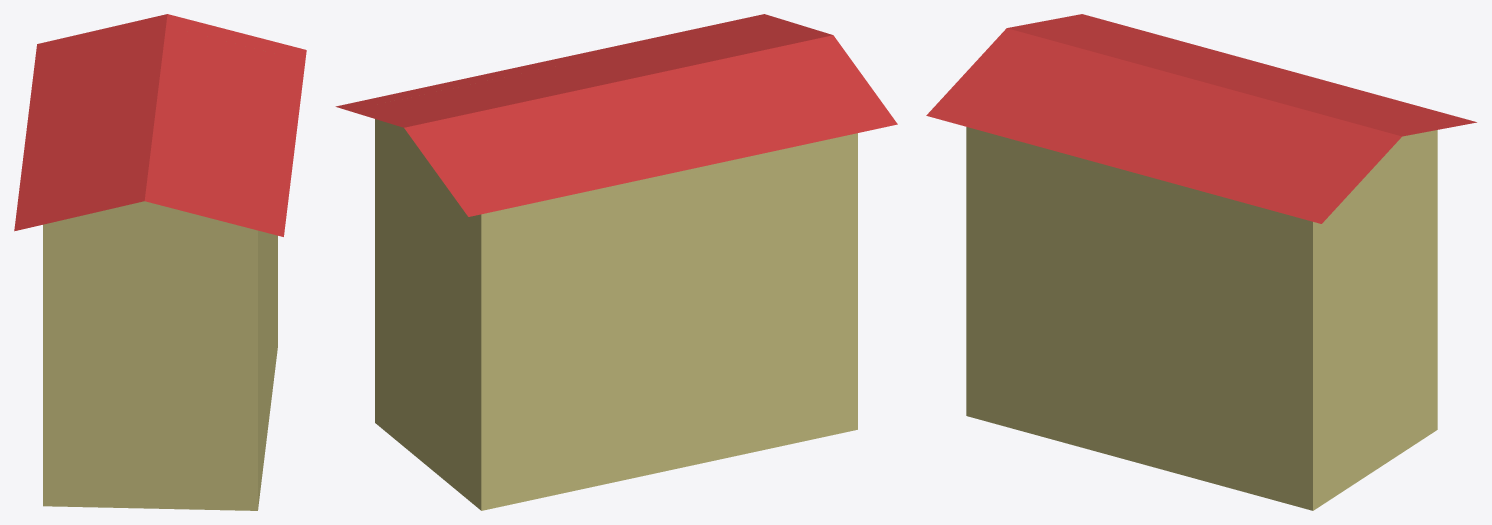
3 renders of one model, left to right at view 1: azimuth 30°, elevation 25°; view 2: azimuth 150°, elevation 25°; view 3: azimuth 270°, elevation 25°, orthographic. The views are drawn at different scales.
Bounding box in the file's own units: 8.53 × 9.47 × 6.42.
